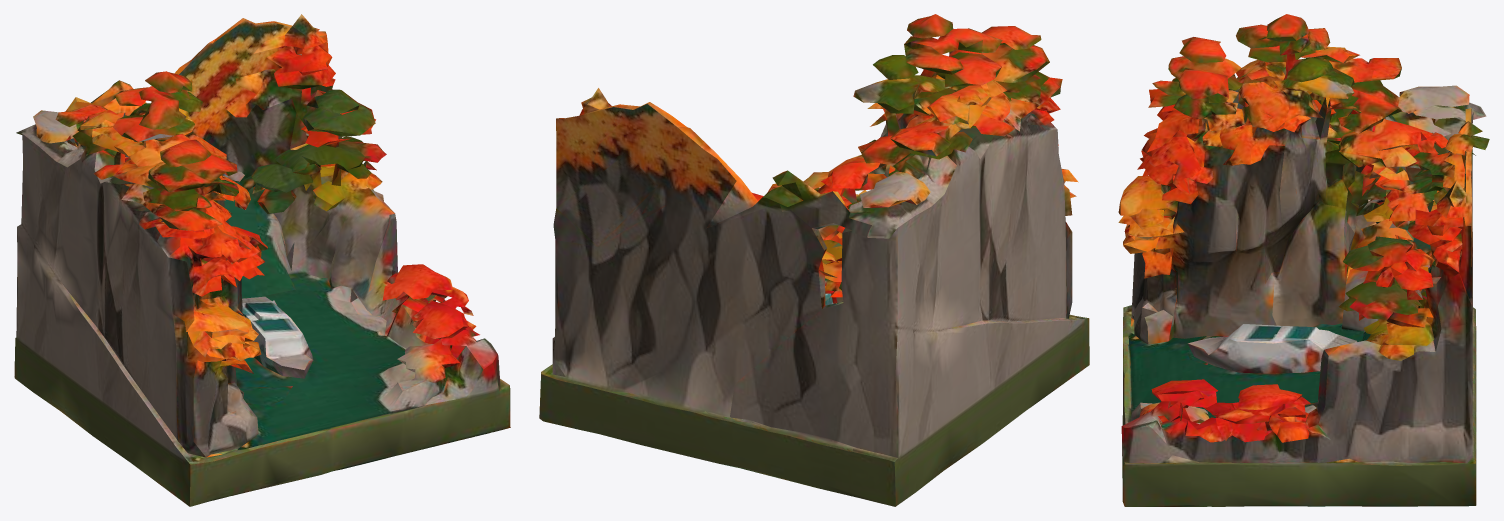
The model's file is ena-gorge.glb.
3 renders of one model, left to right at view 1: azimuth 30°, elevation 25°; view 2: azimuth 150°, elevation 25°; view 3: azimuth 270°, elevation 25°, orthographic. The views are drawn at different scales.
Parts seen in each view (by area): view 1: logan-textured.obj; view 2: logan-textured.obj; view 3: logan-textured.obj.
Boxes of the visible parts, box(x1,y1,x2,y2) form: logan-textured.obj: box(14, 14, 510, 506); logan-textured.obj: box(539, 14, 1089, 506); logan-textured.obj: box(1118, 14, 1489, 506).
Bounding box in the file's own units: 0.9987 × 1 × 0.924.
Materials: 1 (1 with a texture image).
